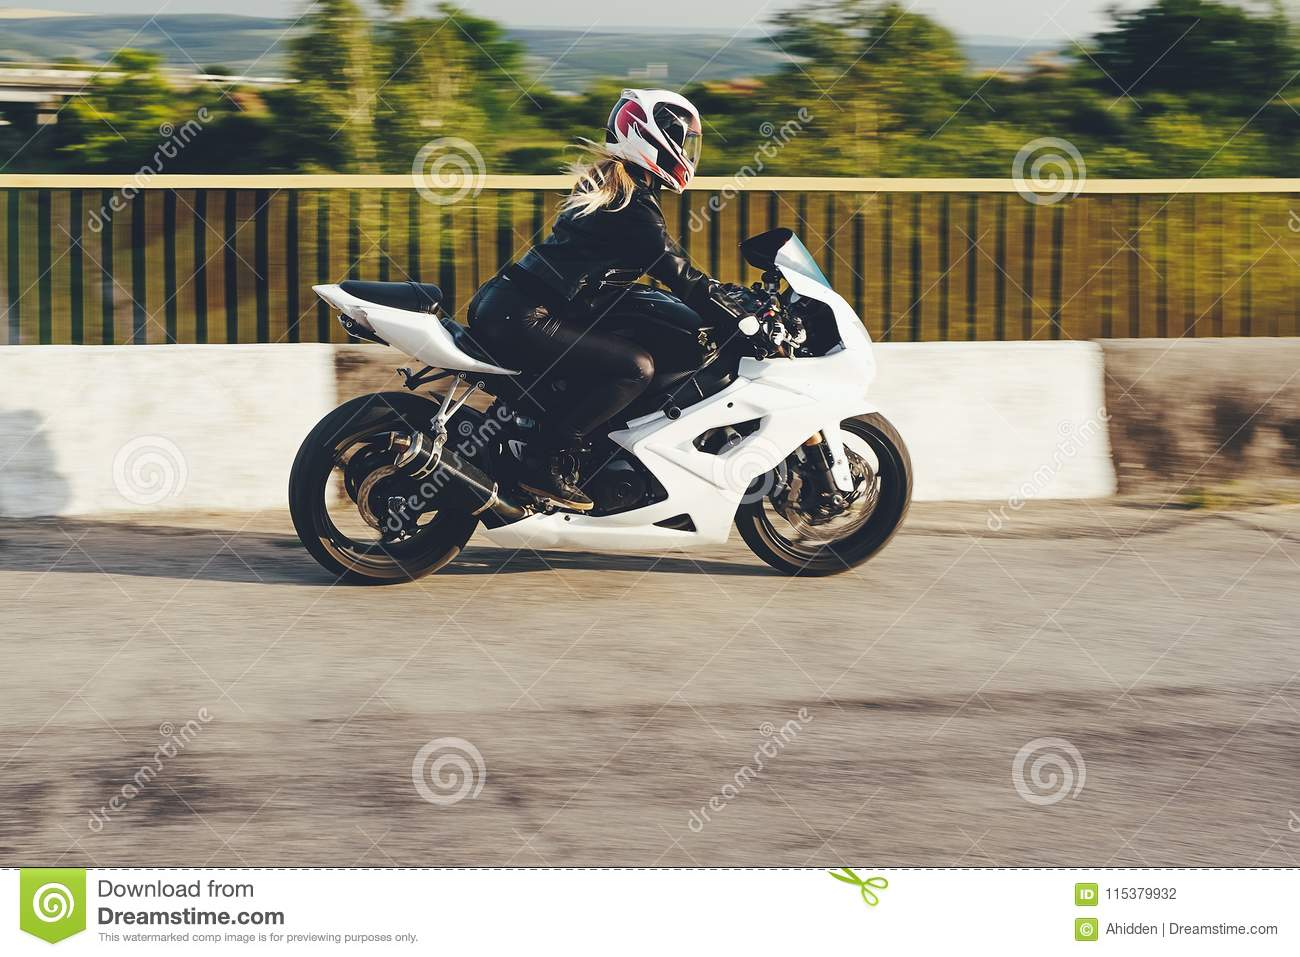helmet: (605, 77, 705, 195)
